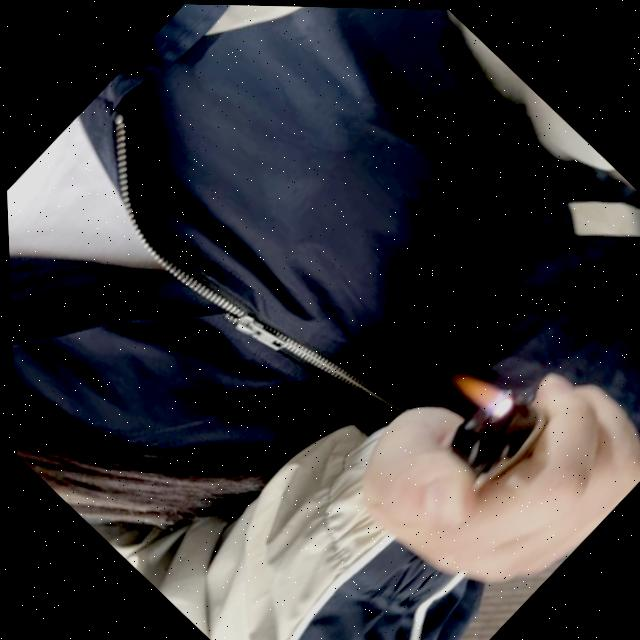Fire: (442, 353, 507, 417)
